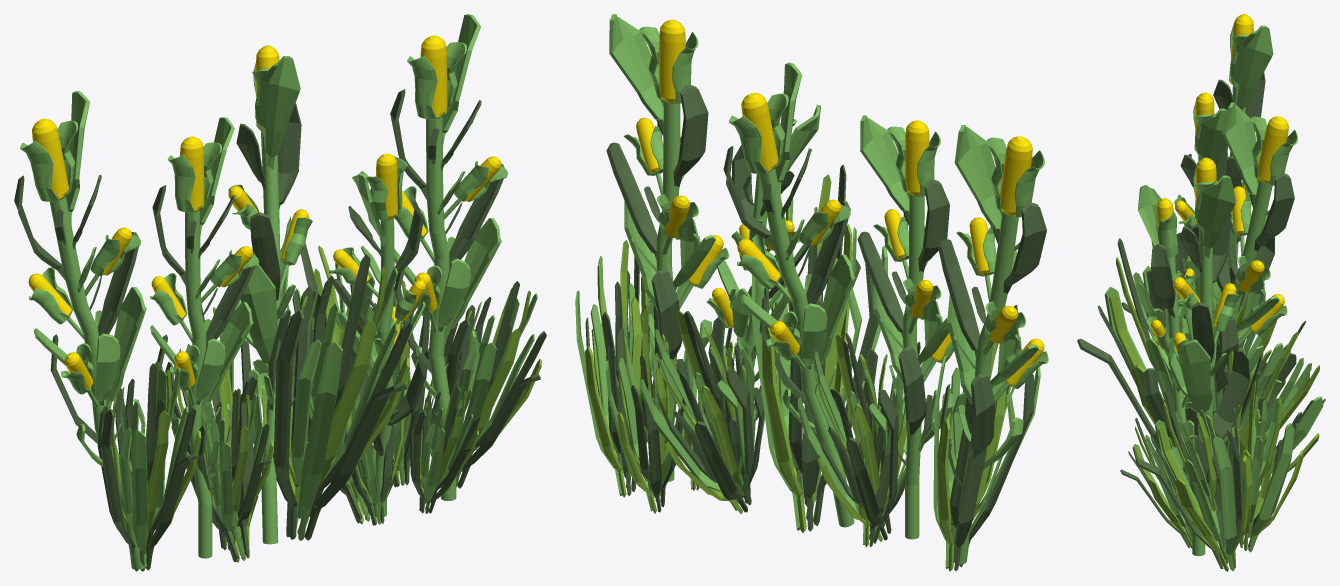
Rendered from CornCluster.fbx.
3 views of the same model, side by side, from view 1: azimuth 30°, elevation 25°; view 2: azimuth 150°, elevation 25°; view 3: azimuth 270°, elevation 25° (orthographic). The views are drawn at different scales.
Parts seen in each view (by area): view 1: Shrub.005; view 2: Shrub.005; view 3: Shrub.005.
Boxes of the visible parts, x1=… form: Shrub.005: x1=14, y1=14, x2=546, y2=571; Shrub.005: x1=575, y1=14, x2=1048, y2=571; Shrub.005: x1=1077, y1=14, x2=1325, y2=571.
Bounding box in the file's own units: 261 × 243 × 136.
